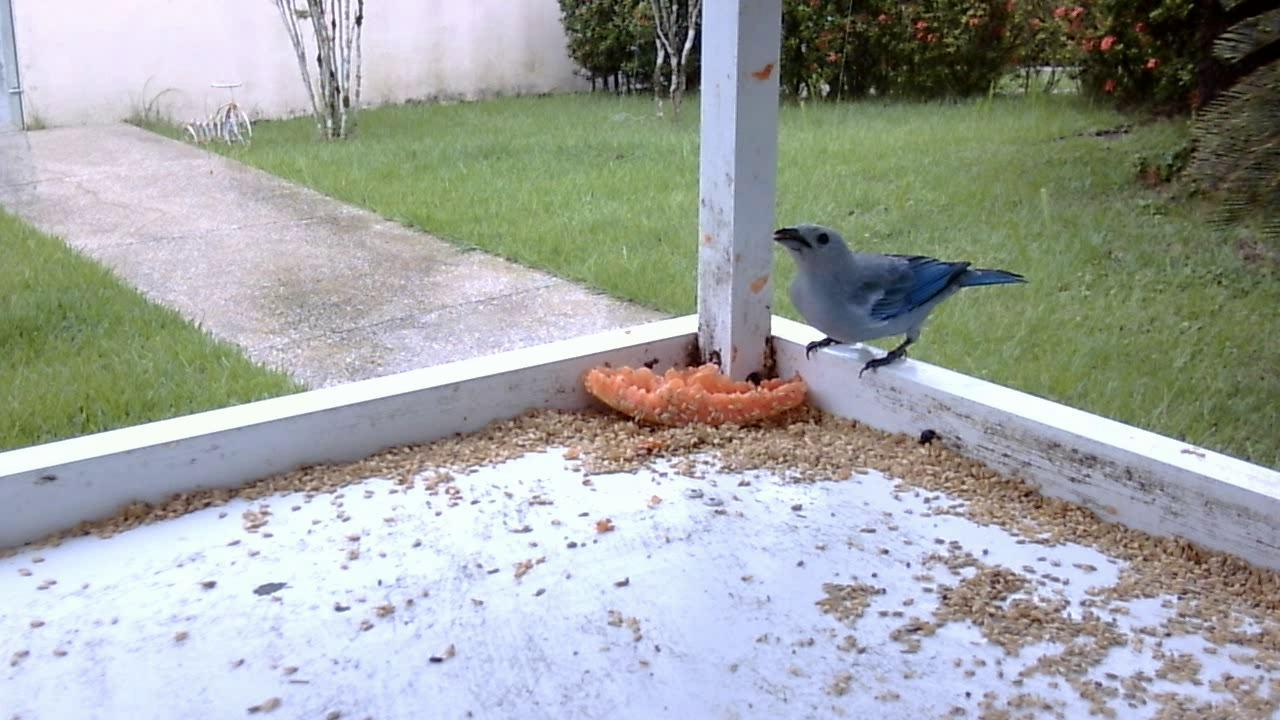sanhaco_da_amazonia: (766, 220, 1024, 387)
